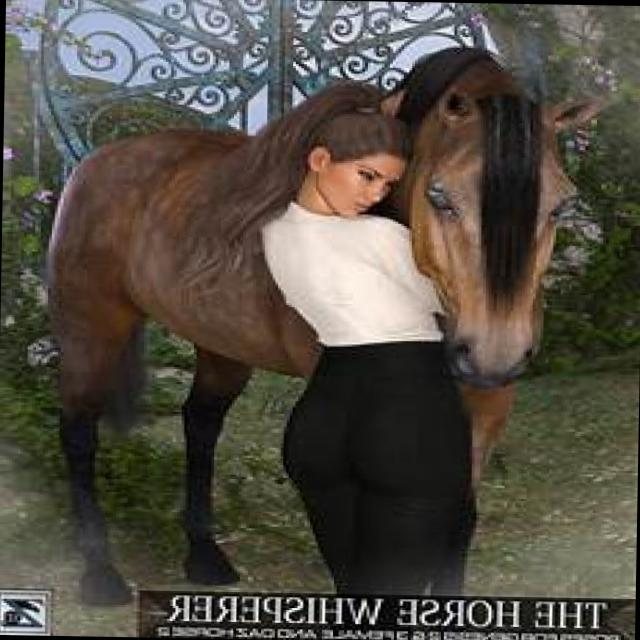animal: (39, 38, 608, 602)
